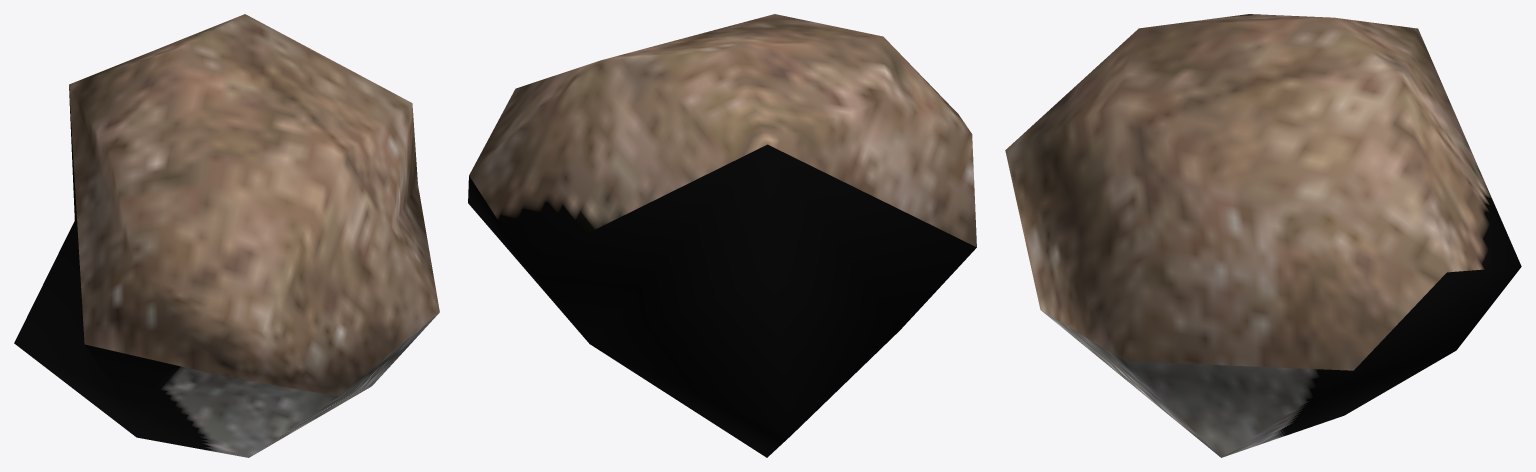
Rendered from asteroid8.fbx.
3 views of the same model, side by side, from view 1: azimuth 30°, elevation 25°; view 2: azimuth 150°, elevation 25°; view 3: azimuth 270°, elevation 25° (orthographic). The views are drawn at different scales.
Parts seen in each view (by area): view 1: PipelineFBX; view 2: PipelineFBX; view 3: PipelineFBX.
Boxes of the visible parts, left/top/right/bottom form: PipelineFBX: left=14, top=14, right=439, bottom=457; PipelineFBX: left=468, top=14, right=976, bottom=457; PipelineFBX: left=1005, top=14, right=1521, bottom=457.
Size of the model in its own units: 82.96 by 73.24 by 81.96.
1 material, 1 textured.
